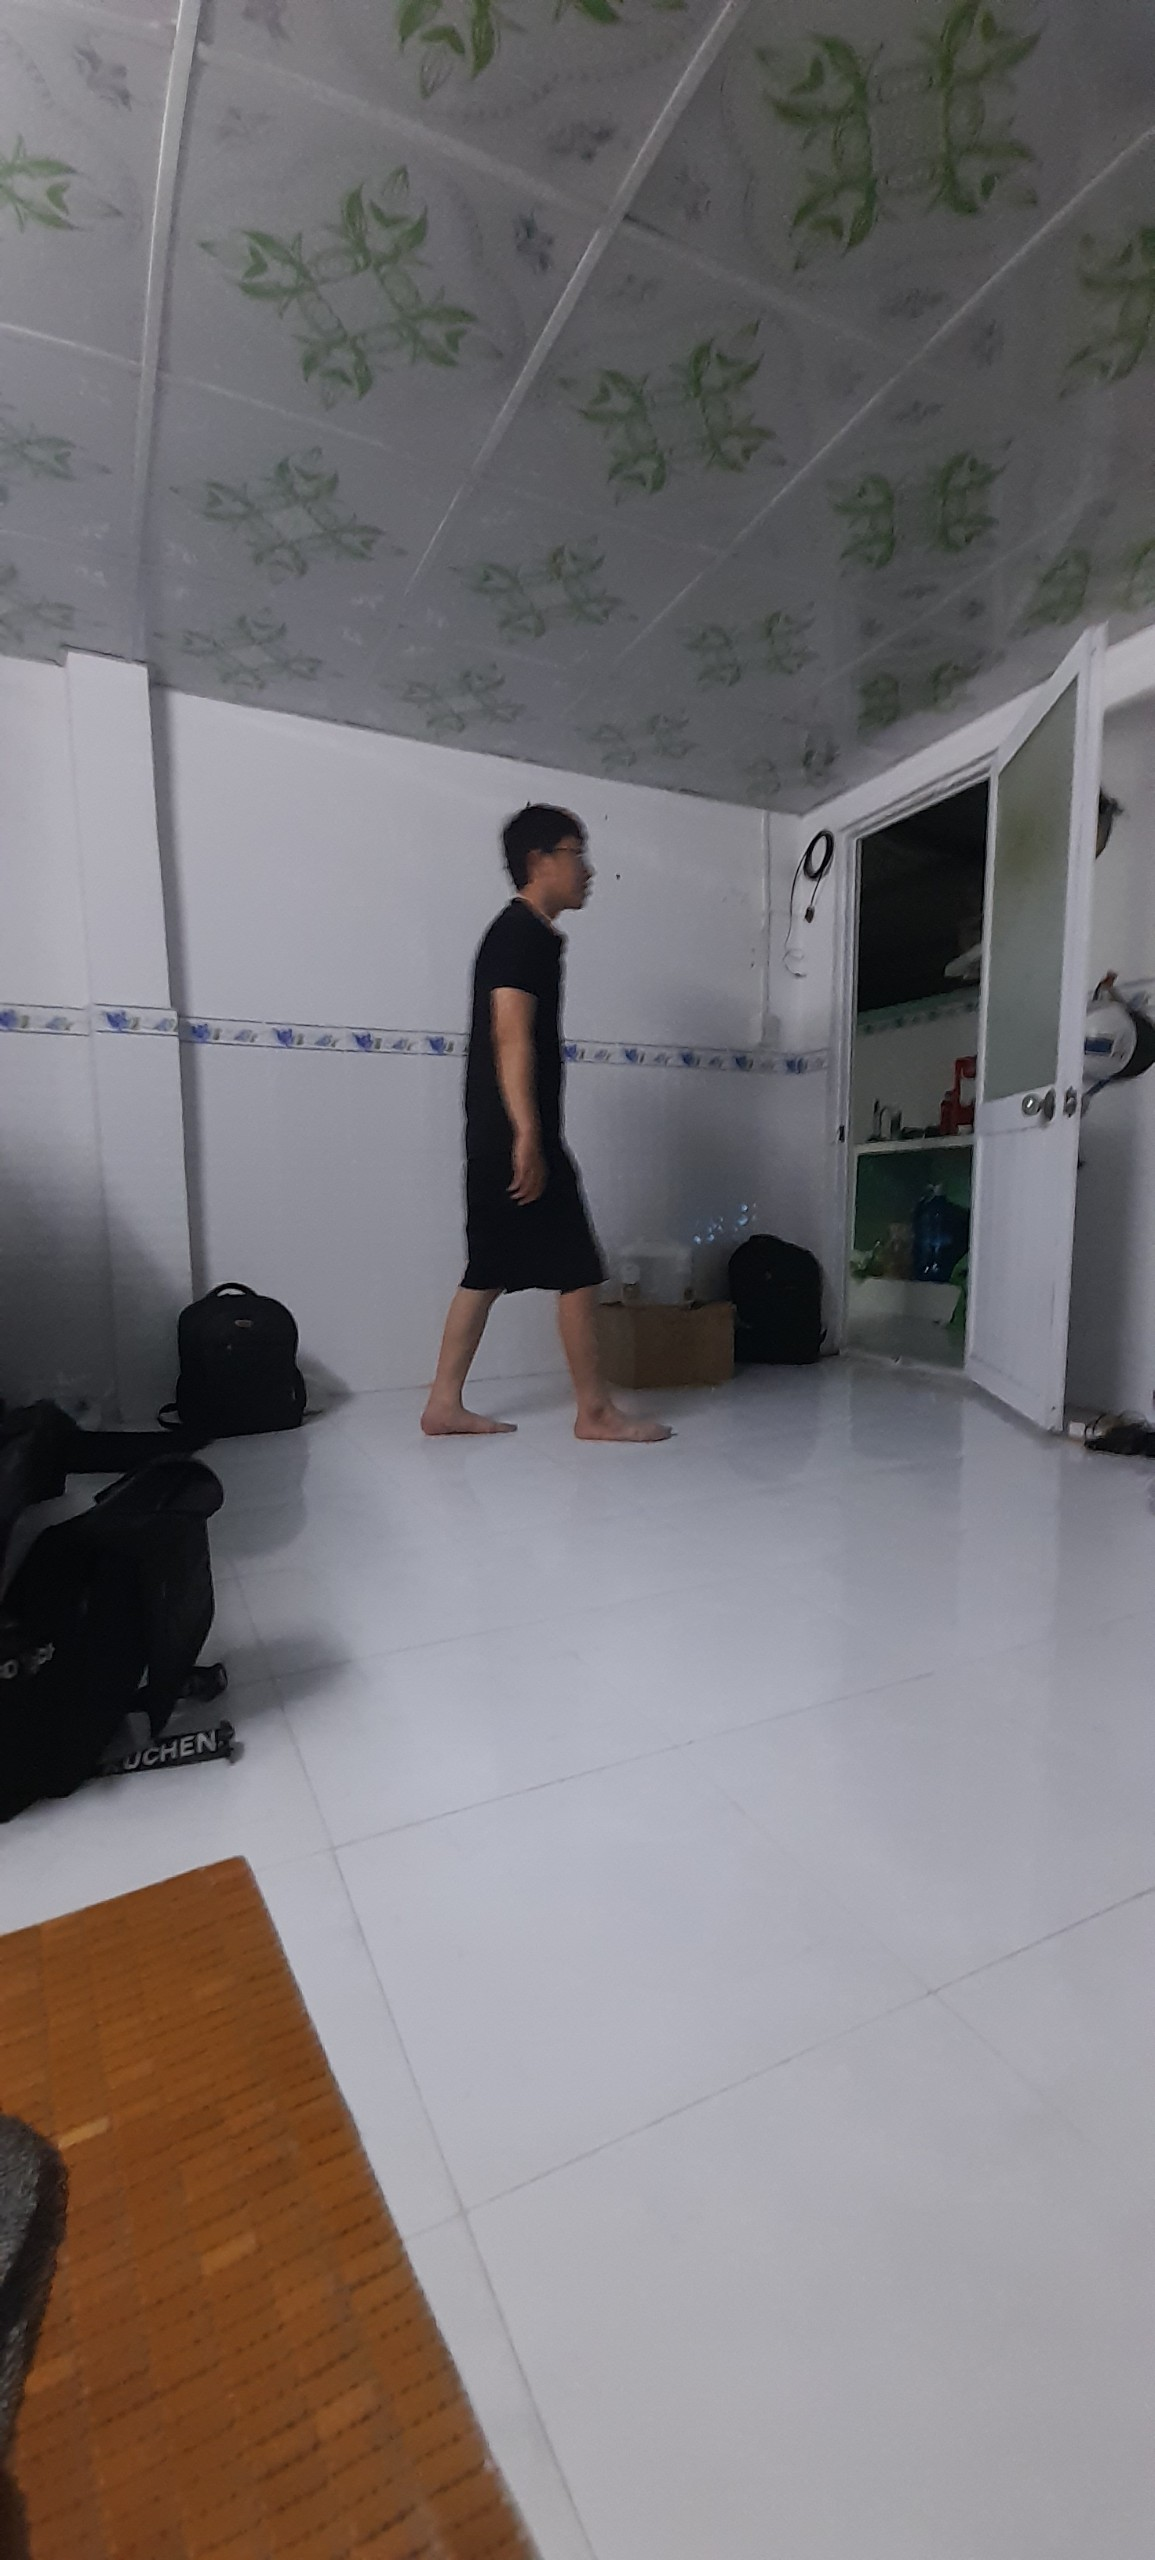person: (422, 803, 676, 1452)
